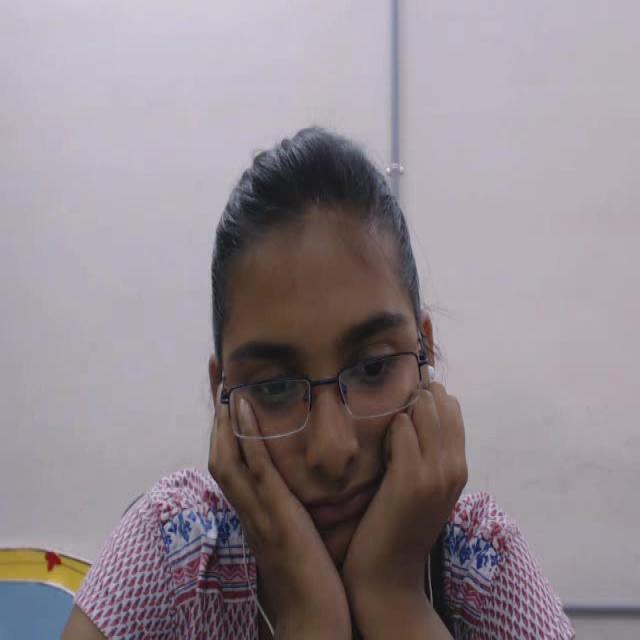Bored: (175, 102, 466, 593)
